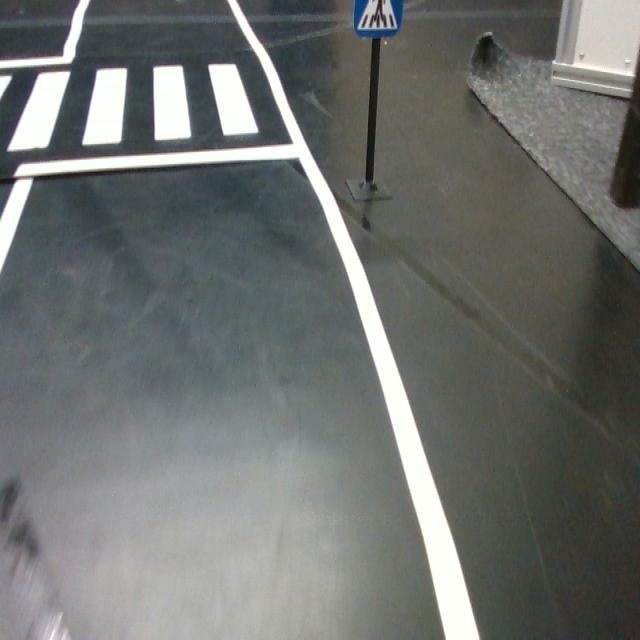crosswalk-sign: (352, 0, 403, 39)
